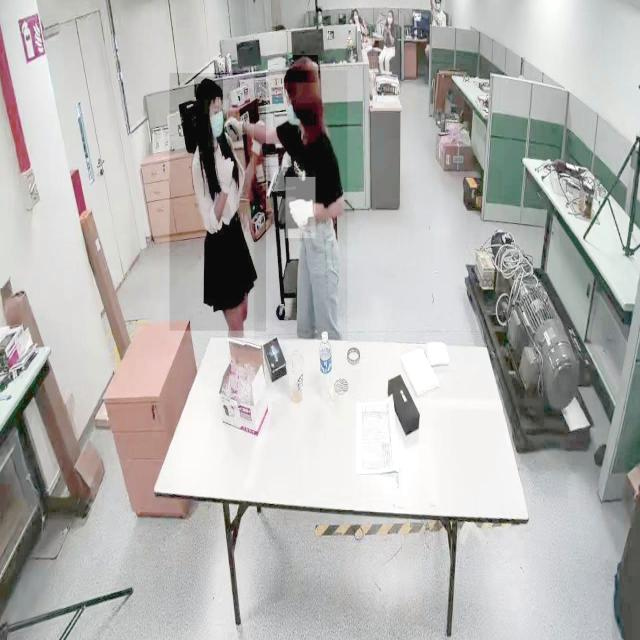face_mask: (204, 100, 228, 146)
hand_glove: (286, 177, 316, 239), (221, 110, 247, 150)
head_nohelmet: (282, 55, 318, 84), (194, 76, 224, 98), (386, 7, 394, 13), (316, 6, 323, 12), (352, 7, 358, 12)
person: (254, 70, 348, 342), (170, 73, 266, 331), (379, 8, 401, 86)
